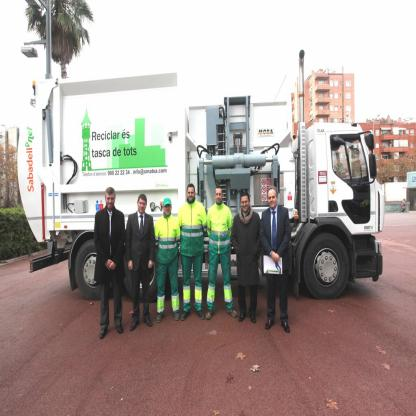Truck: (17, 50, 385, 300)
